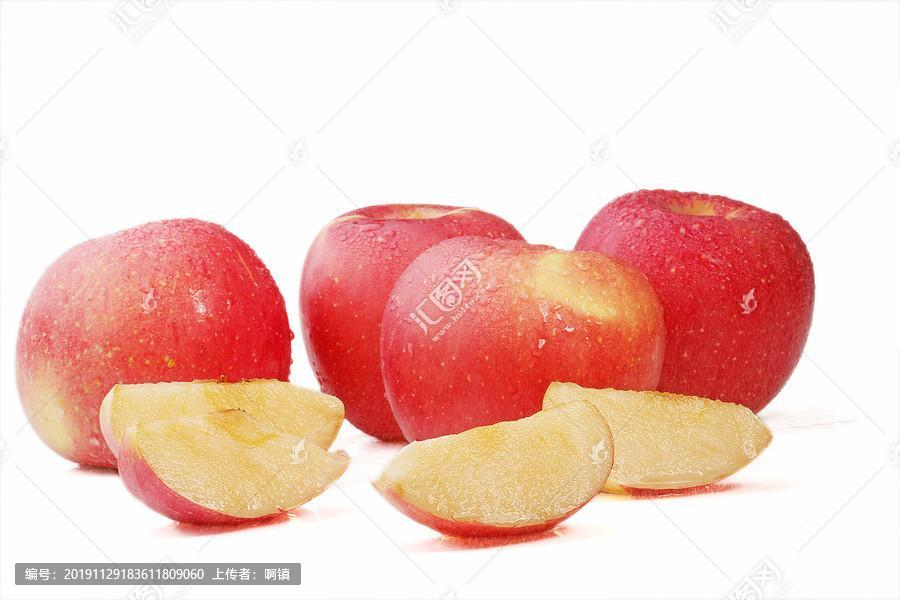apple: (7, 217, 292, 466), (377, 236, 666, 445), (569, 186, 813, 415), (298, 202, 526, 444)
